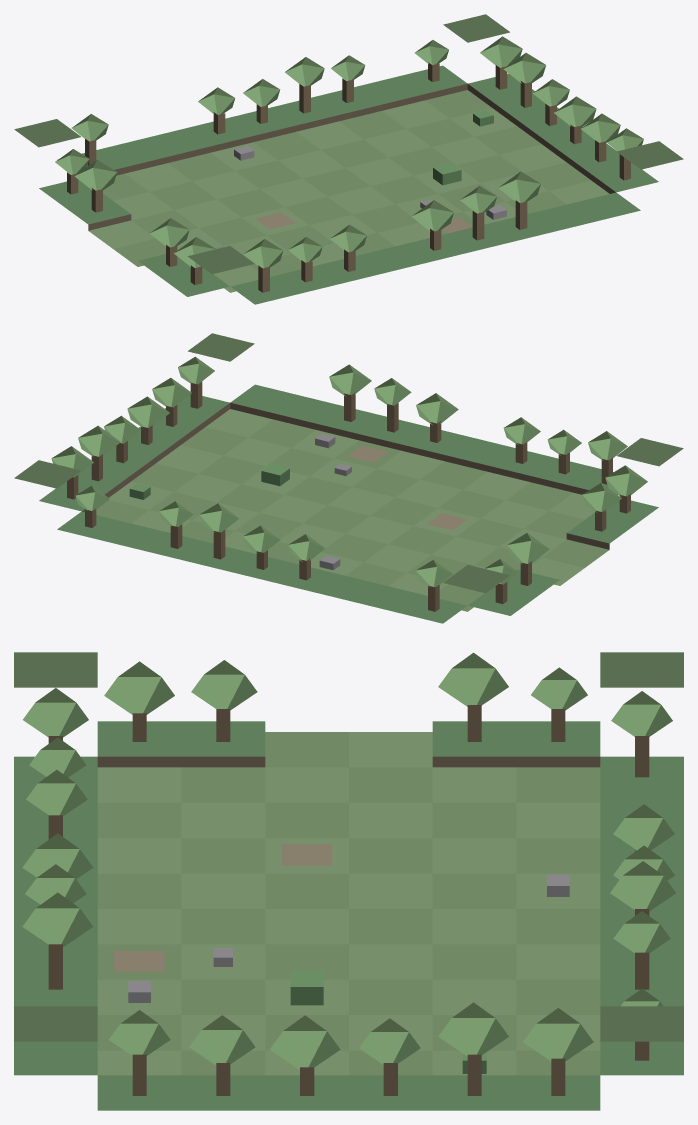
3 renders of one model, top to bottom at view 1: azimuth 30°, elevation 25°; view 2: azimuth 150°, elevation 25°; view 3: azimuth 270°, elevation 25°, orthographic. The views are drawn at different scales.
Visible parts, largest first — view 1: mesh0; view 2: mesh0; view 3: mesh0.
Boxes of the visible parts, box(x1,y1,x2,y2) form: mesh0: box(14, 14, 683, 304); mesh0: box(14, 333, 683, 623); mesh0: box(14, 652, 683, 1110).
Size of the model in its own units: 11 by 1.38 by 8.
